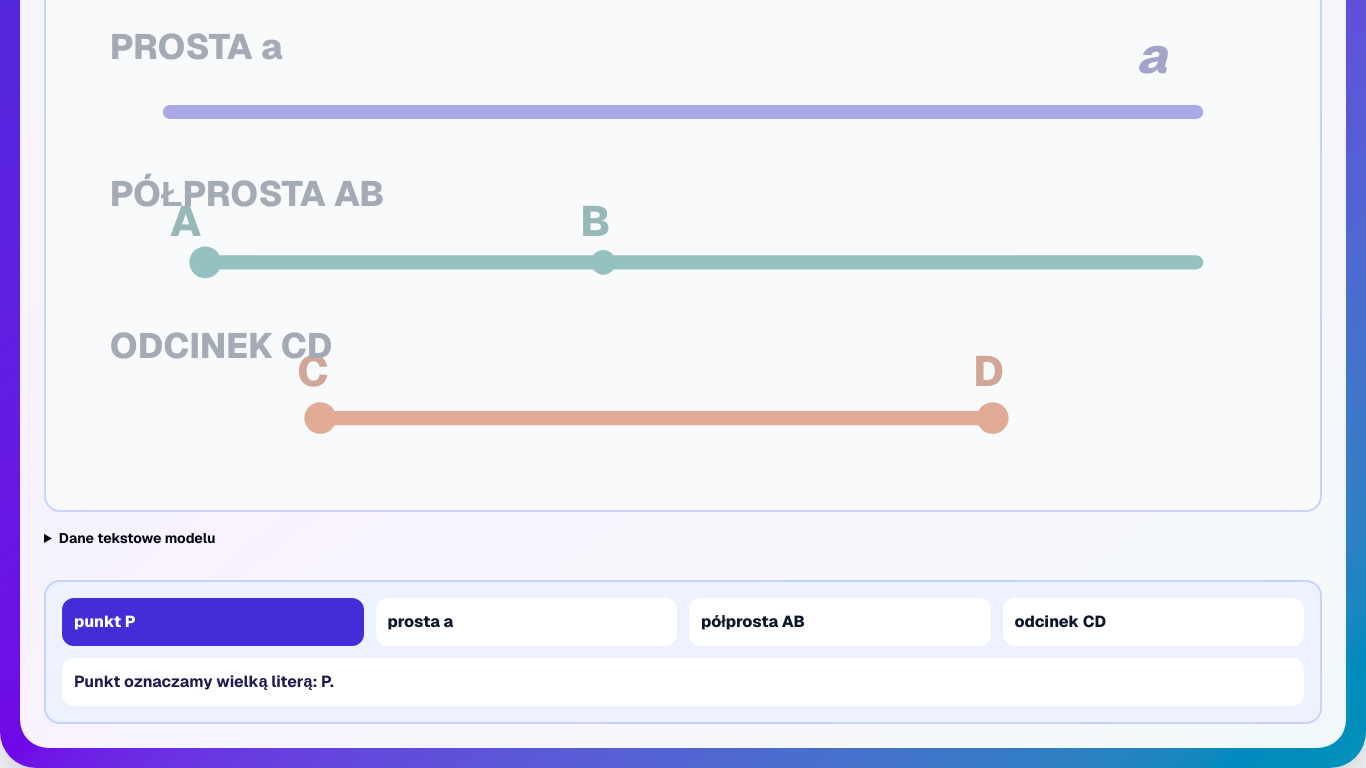
Scenario: podstawy prostych, odcinków i odległości › pokazuje cztery obiekty oraz regułę małych i wielkich liter
The image size is (1366, 768).
(page scrolled)
Check: the picture named "Punkt, prosta, półprosta i odcinek" shows "PROSTA a", box left=110, top=23, right=282, bottom=69
Check: the picture named "Punkt, prosta, półprosta i odcinek" shows "PÓŁPROSTA AB", box left=110, top=170, right=384, bottom=216
Click the button "prosta a": (420, 622) left=376, top=598, right=677, bottom=646
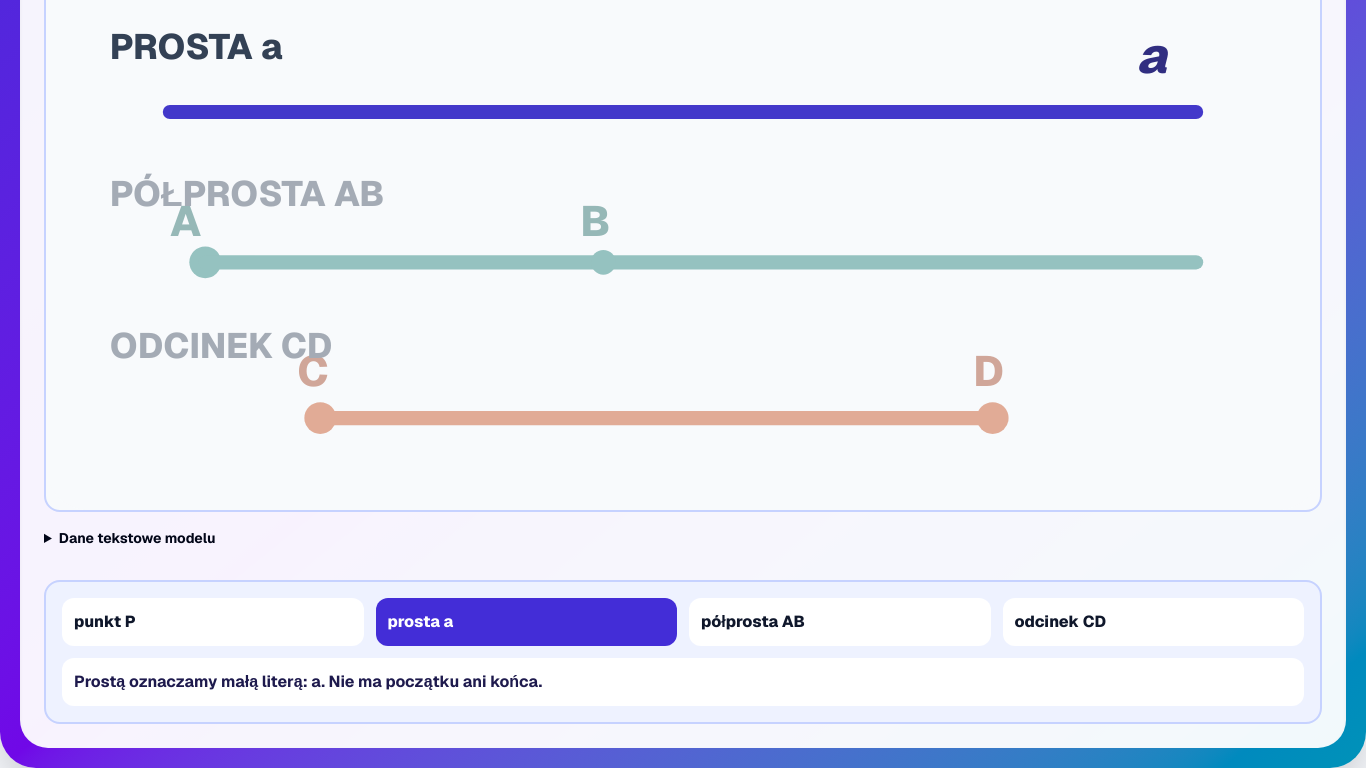
Check: the message shows "małą literą: a", box left=74, top=671, right=542, bottom=692
Click the button "odcinek CD": (1060, 622) left=1002, top=598, right=1304, bottom=646
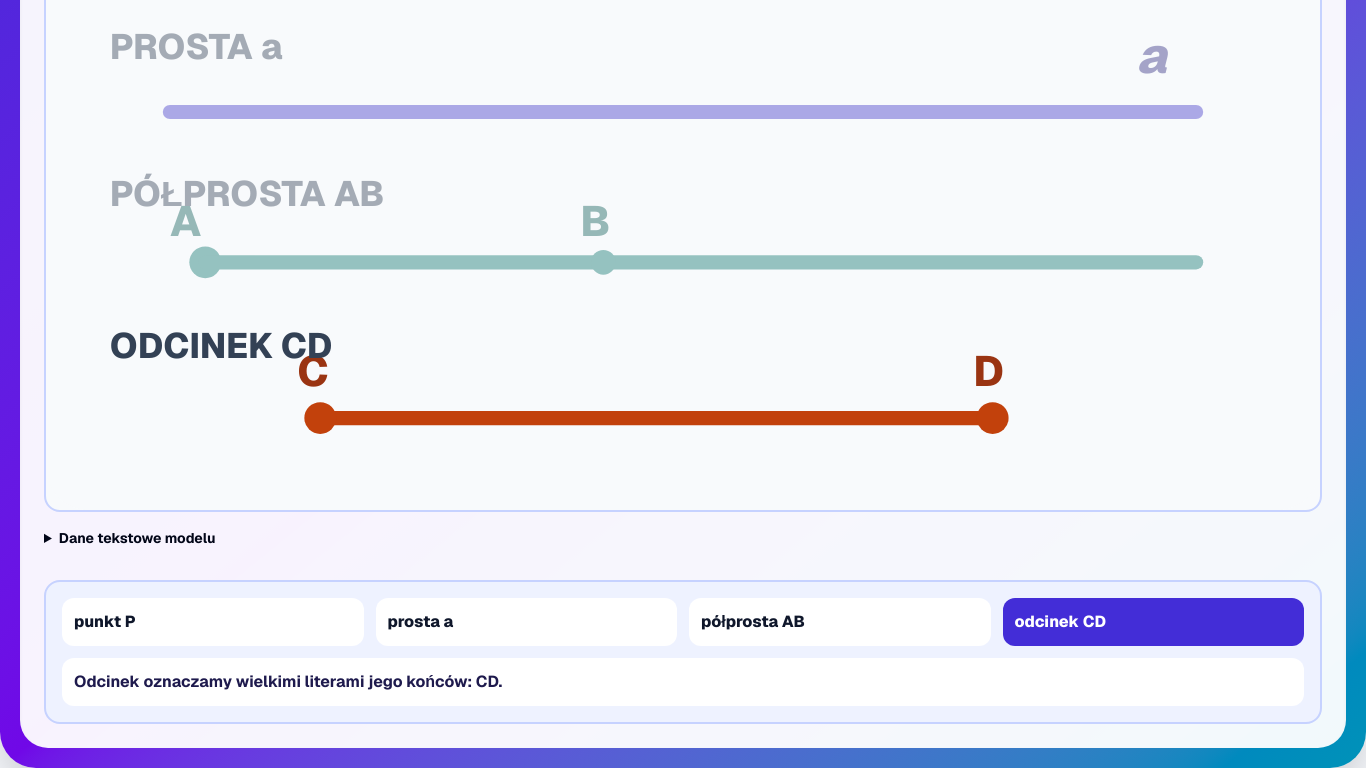
Check: the message shows "wielkimi literami jego końców", box left=74, top=671, right=502, bottom=692
